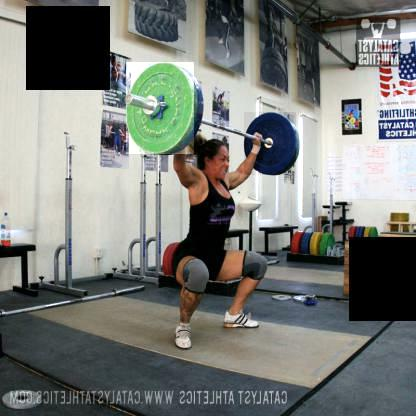barbell: (125, 62, 192, 154), (242, 112, 294, 176)
